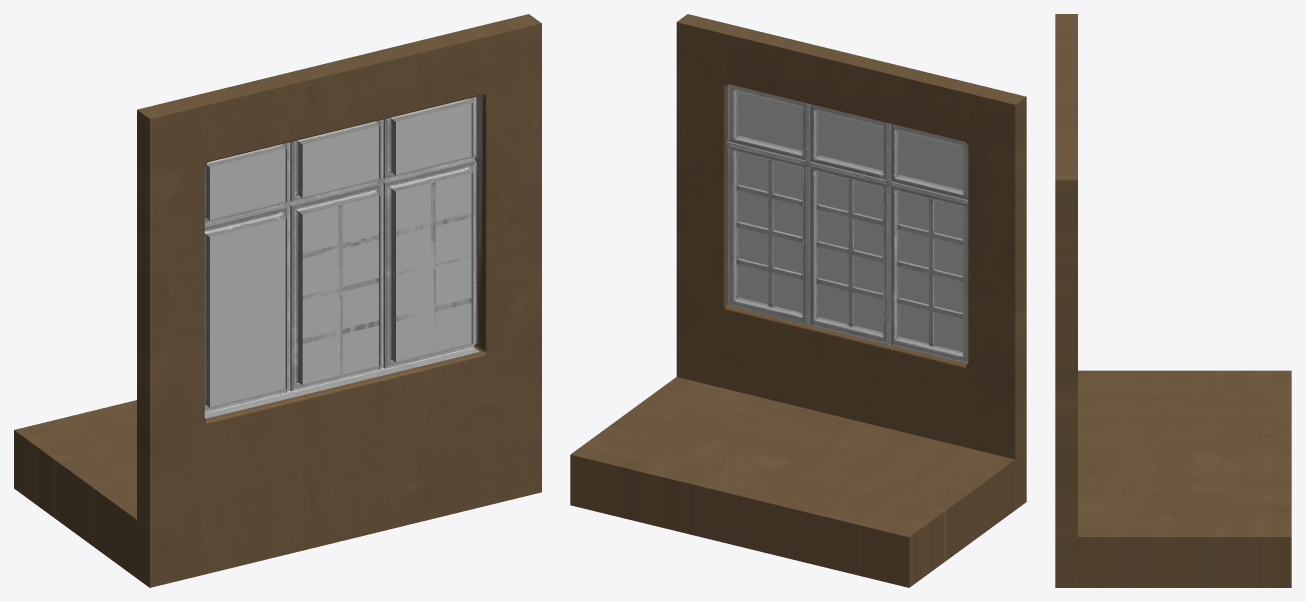
Rendered from SM_Building02GroundWindowR.fbx.
3 views of the same model, side by side, from view 1: azimuth 30°, elevation 25°; view 2: azimuth 150°, elevation 25°; view 3: azimuth 270°, elevation 25° (orthographic). The views are drawn at different scales.
Parts seen in each view (by area): view 1: SM_Building02GroundWindowR_LOD0; view 2: SM_Building02GroundWindowR_LOD0; view 3: SM_Building02GroundWindowR_LOD0.
Part boxes in pixels (box(x1,y1,x2,y2)): SM_Building02GroundWindowR_LOD0: box(14, 14, 541, 587); SM_Building02GroundWindowR_LOD0: box(570, 14, 1026, 587); SM_Building02GroundWindowR_LOD0: box(1055, 14, 1291, 587).
Bounding box in the file's own units: 350 × 210 × 400.
Materials: 3 (2 with a texture image).
